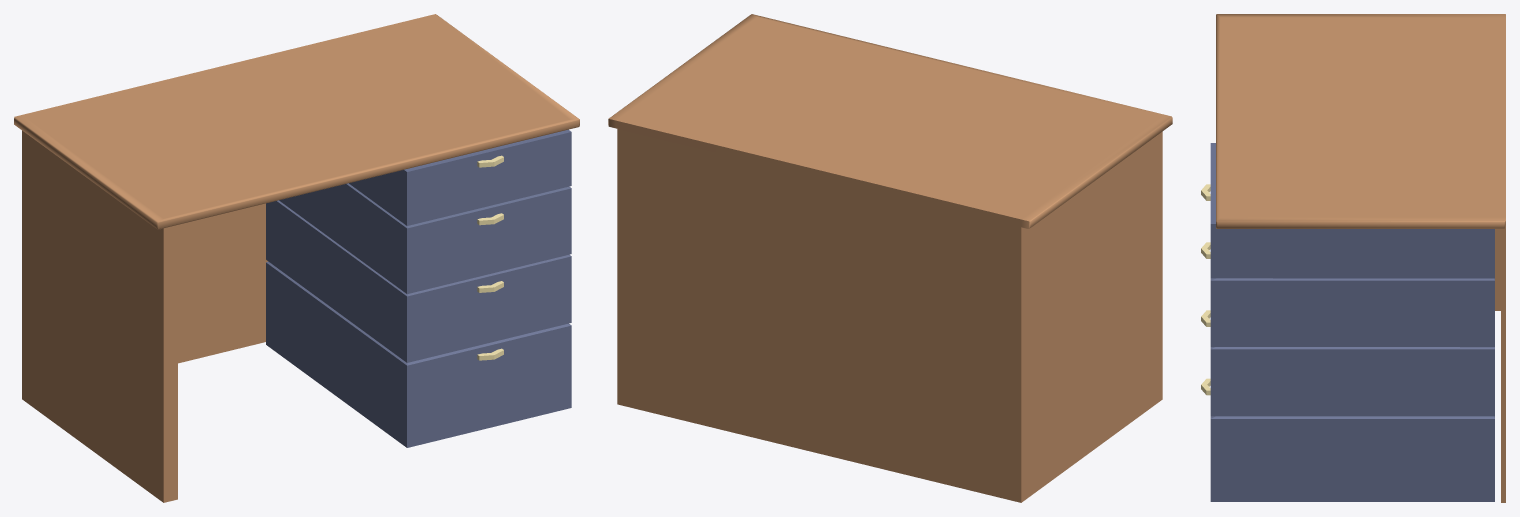
File: staff_Desk.fbx
The picture shows the model from 3 angles, left to right: view 1: azimuth 30°, elevation 25°; view 2: azimuth 150°, elevation 25°; view 3: azimuth 270°, elevation 25°; orthographic projection.
Parts seen in each view (by area): view 1: staff_Desk, Cube_071_249, Cube_072_248; view 2: staff_Desk; view 3: Cube_071_249, staff_Desk, Cube_072_248.
Boxes of the visible parts, bbox=[...] form: staff_Desk: bbox=[14, 14, 579, 502]; Cube_071_249: bbox=[266, 129, 571, 447]; Cube_072_248: bbox=[477, 155, 503, 360]; staff_Desk: bbox=[608, 14, 1172, 502]; Cube_071_249: bbox=[1210, 143, 1494, 501]; staff_Desk: bbox=[1216, 14, 1505, 502]; Cube_072_248: bbox=[1201, 184, 1210, 395].
Bounding box in the file's own units: 144 × 92.57 × 89.31.
